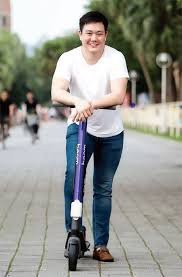kick_wheel: (64, 240, 78, 269)
